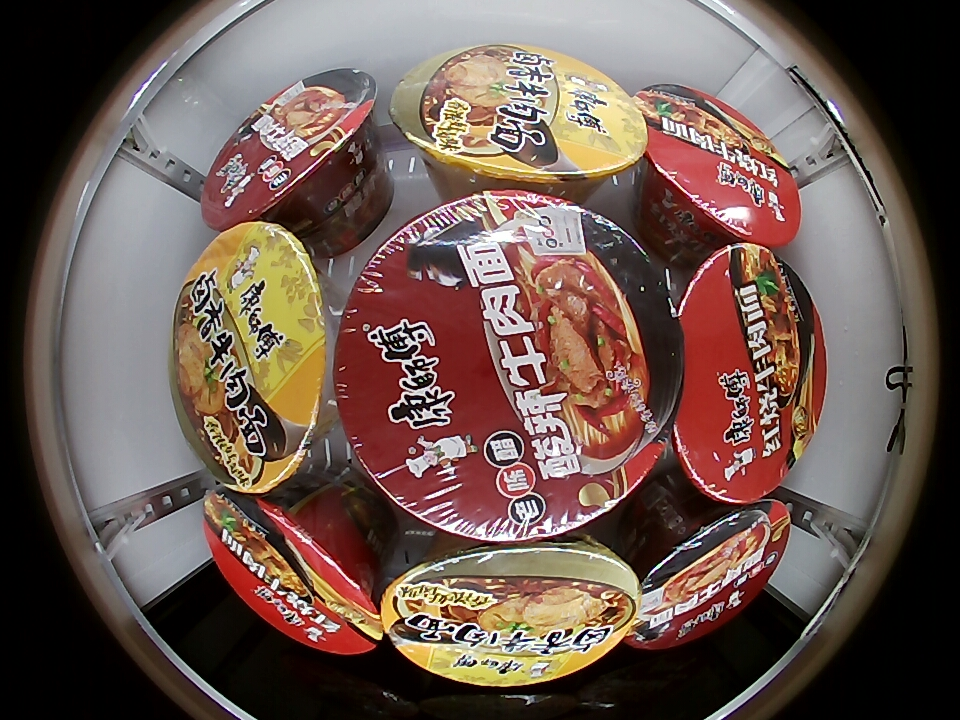hongshaoniurou: (668, 243, 827, 503), (204, 490, 386, 656), (634, 83, 801, 246)
luxiangniurou: (172, 221, 330, 495), (380, 541, 640, 687), (391, 44, 648, 191)
suanlaniurou: (334, 192, 684, 541), (201, 69, 380, 228), (628, 501, 791, 650)
